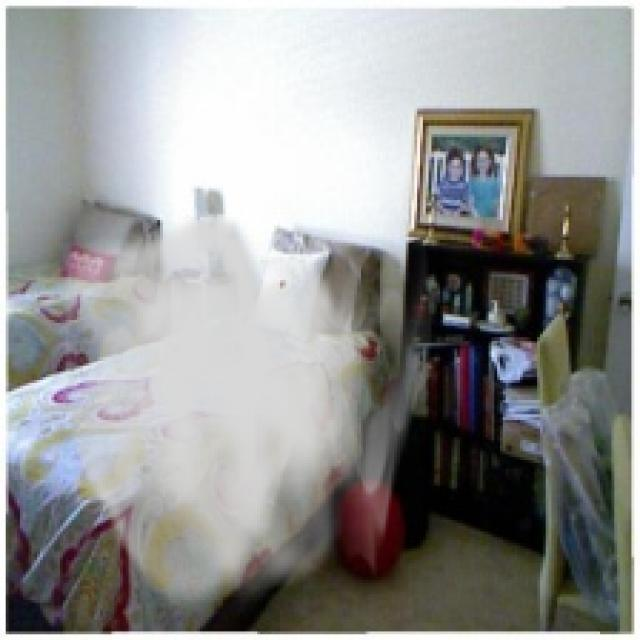Smoke: (52, 208, 437, 620)
